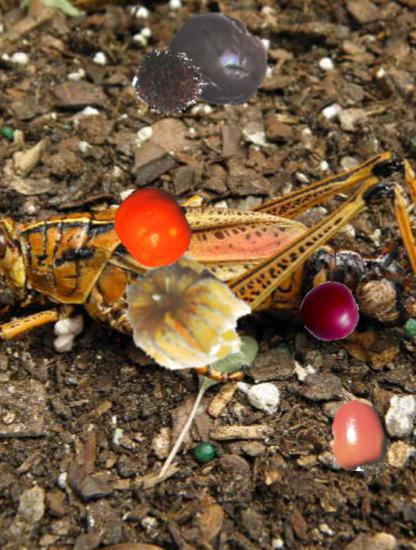Cherry: (300, 282, 359, 341)
Clementine: (113, 186, 196, 269)
Kaki: (324, 400, 395, 471)
Passion: (167, 7, 272, 112)
Physalis: (117, 250, 257, 390)
Rambutan: (131, 44, 211, 124)
